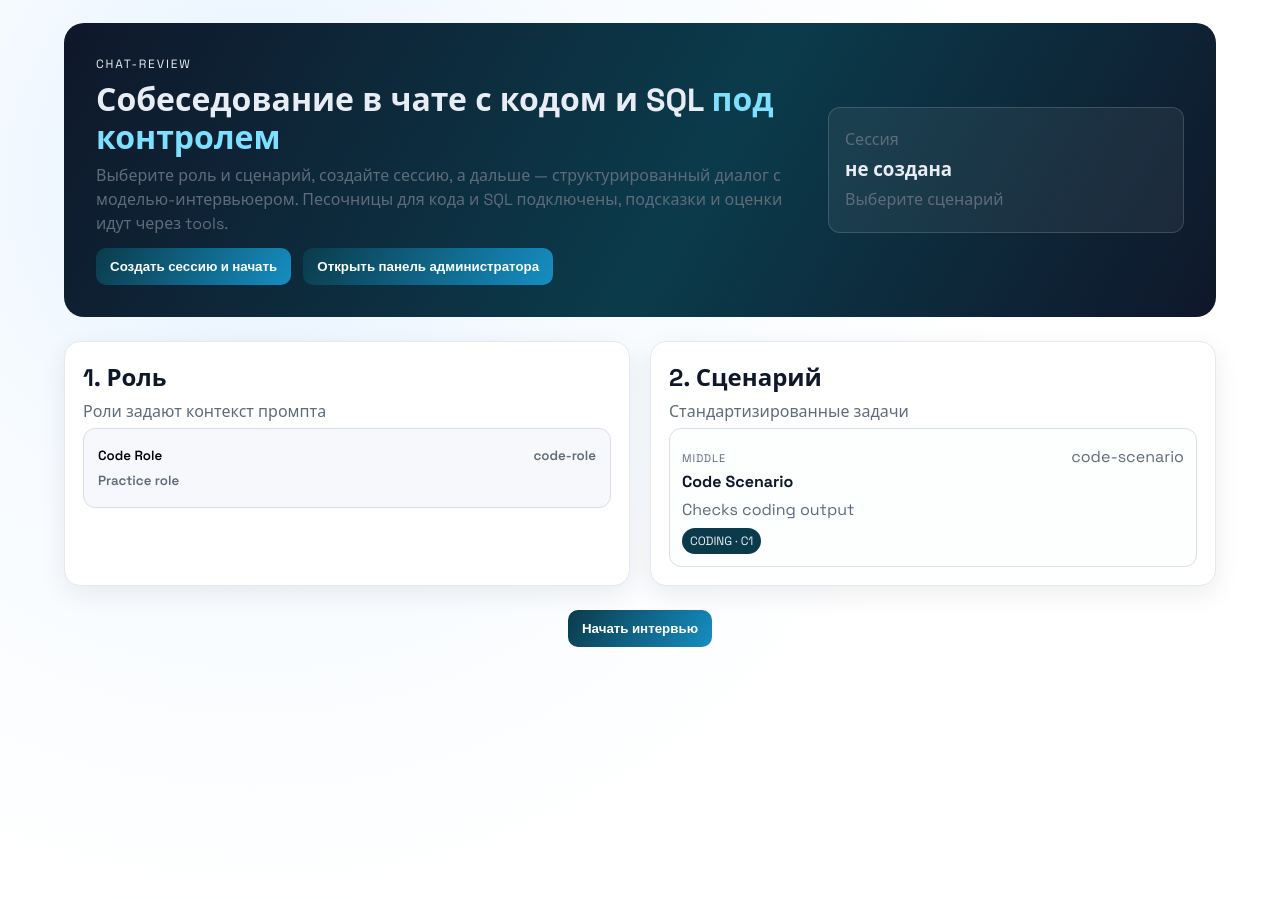
Test: Practice feedback UI › prefers model final reply for coding review and keeps score_task comment as fallback only
The image size is (1280, 899).
Click the text "Code Role". click: click(130, 455)
box: [98,447,162,464]
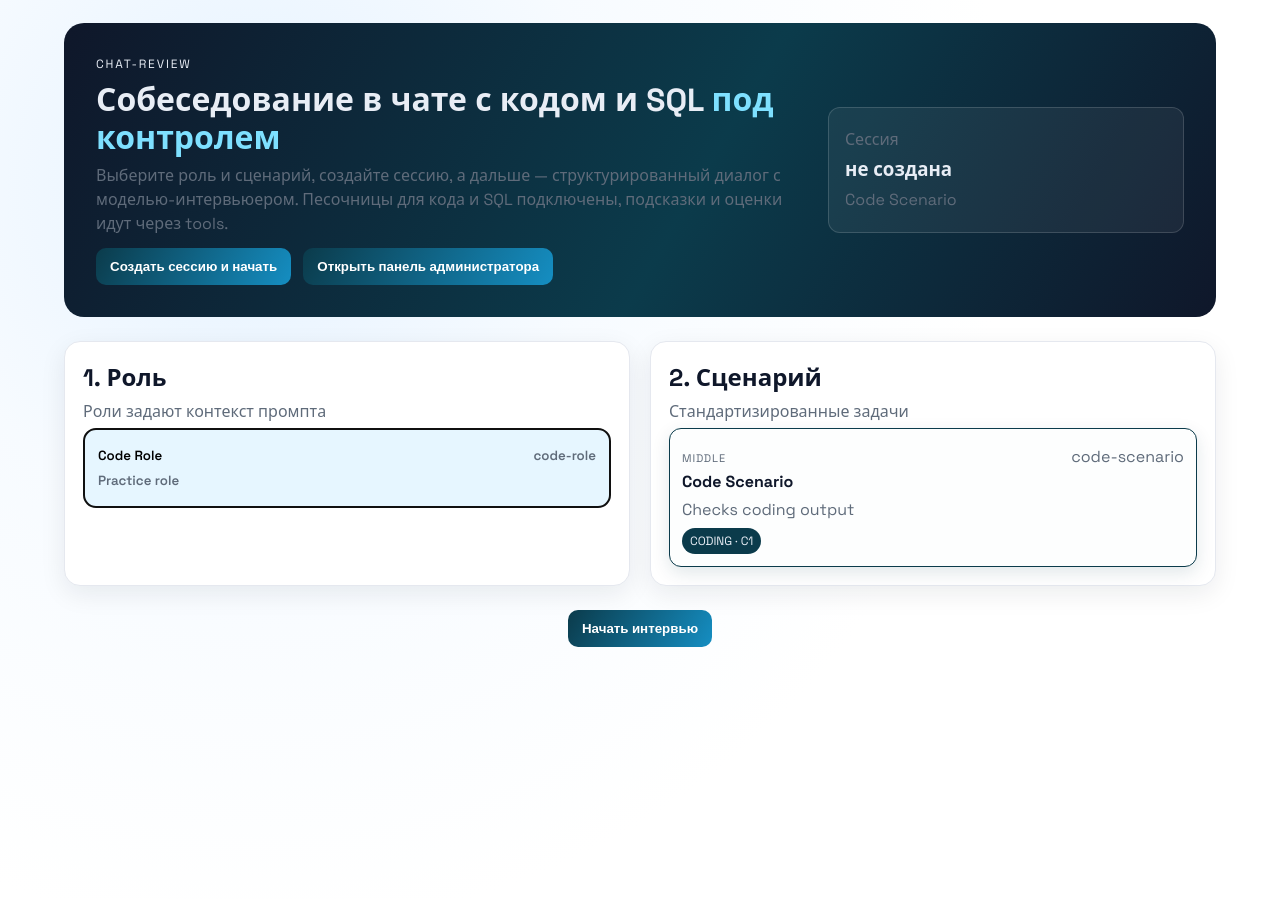
Click the text "Checks coding output". click: click(768, 510)
box: [682,499,854,520]
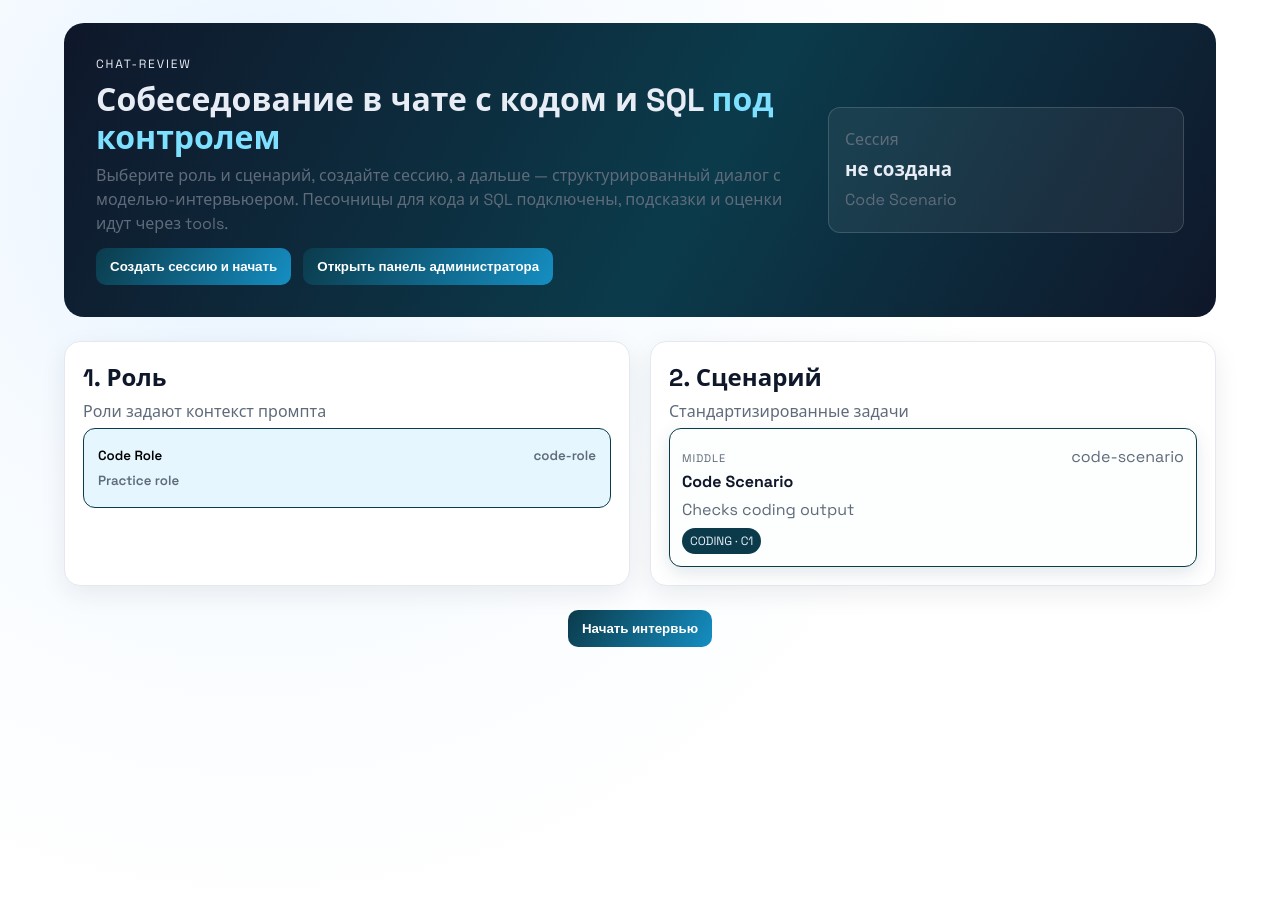
Click the button with test id "start-session-button". click: click(194, 266)
box: [96,248,291,285]
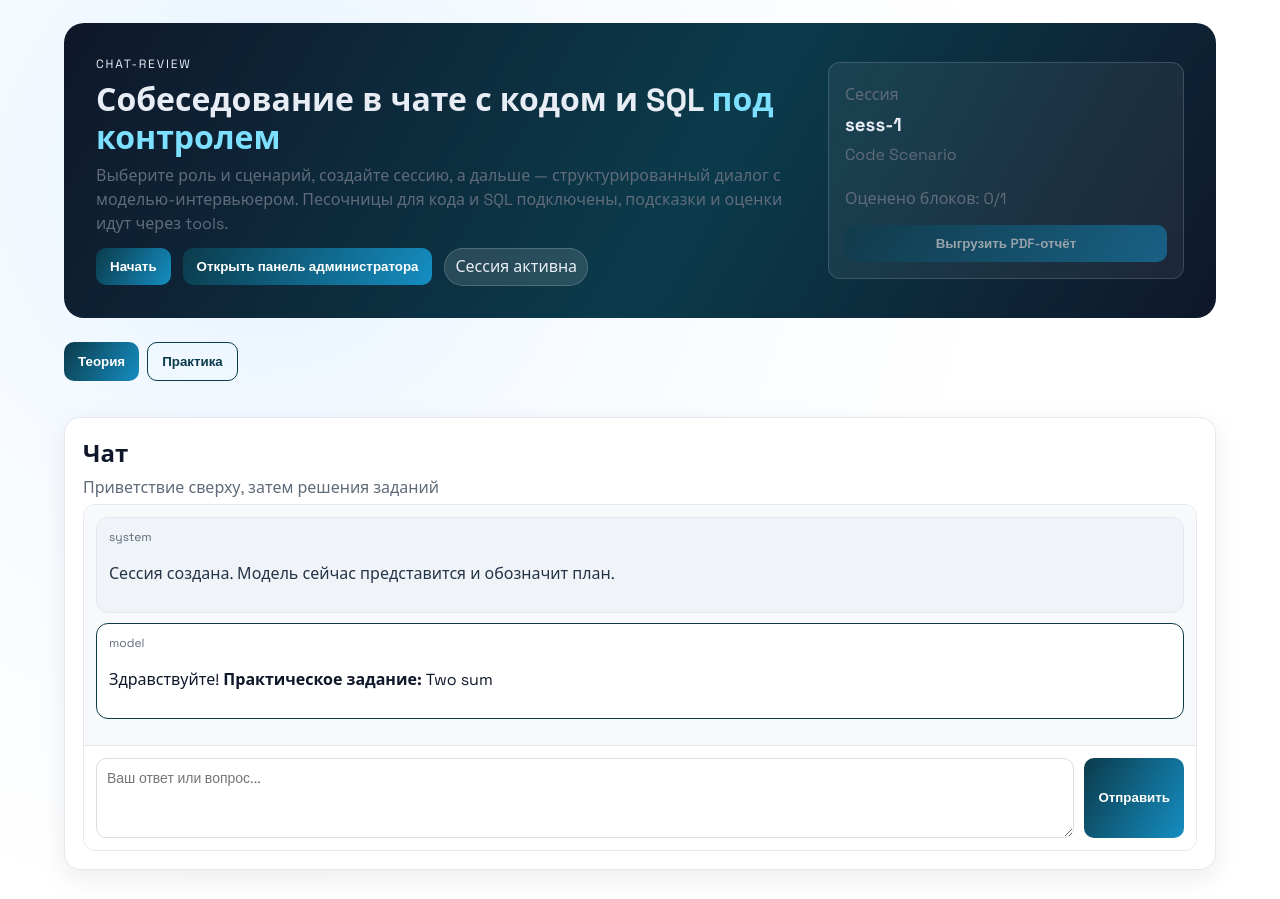
Click the button with test id "practice-mode-toggle". click: click(192, 361)
box: [147,342,238,381]
(page scrolled)
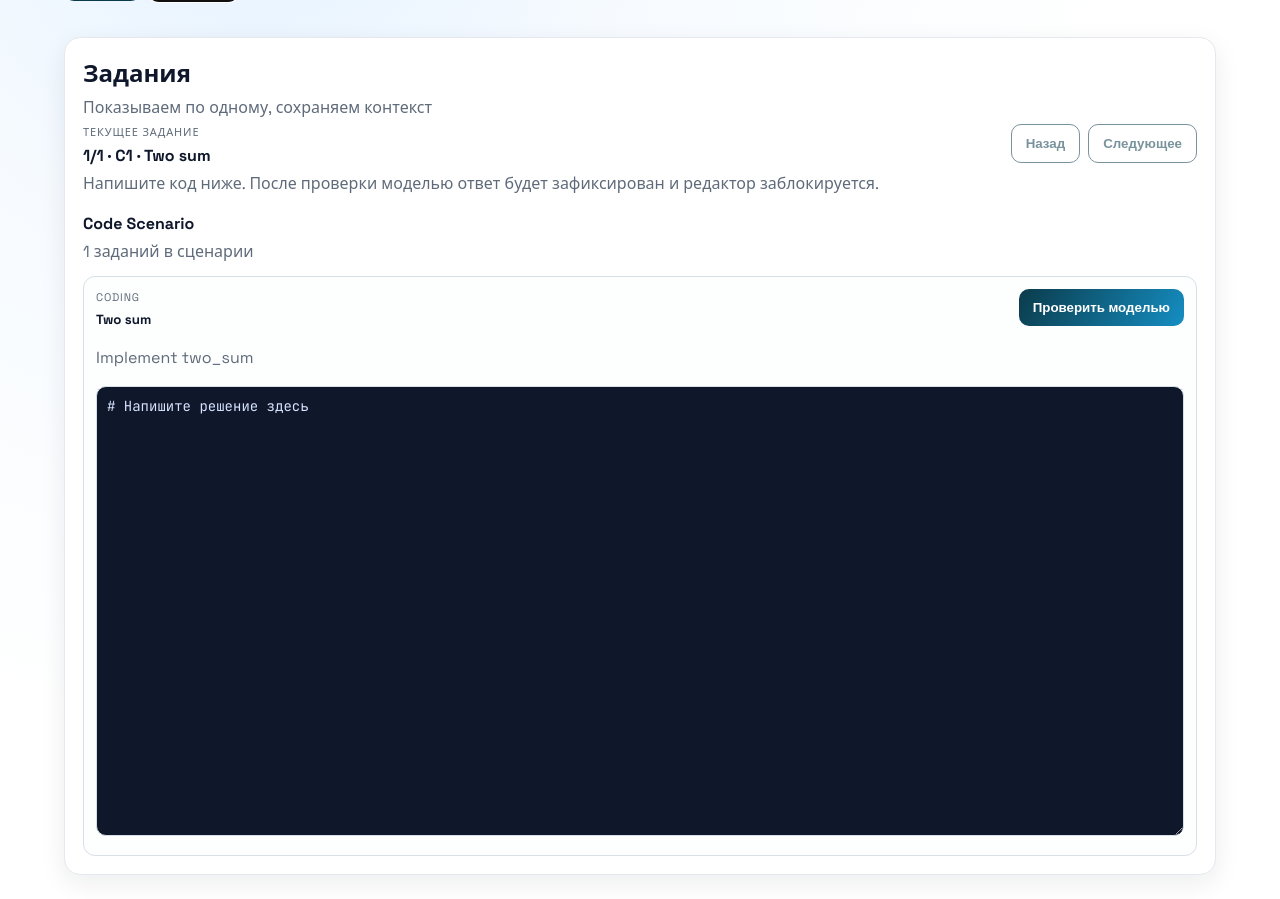
Replace the text in the text box with test id "coding-draft-input" with "def two_sum(nums, target): return [0, 1]". click: (640, 611)
box: [96,386,1184,836]
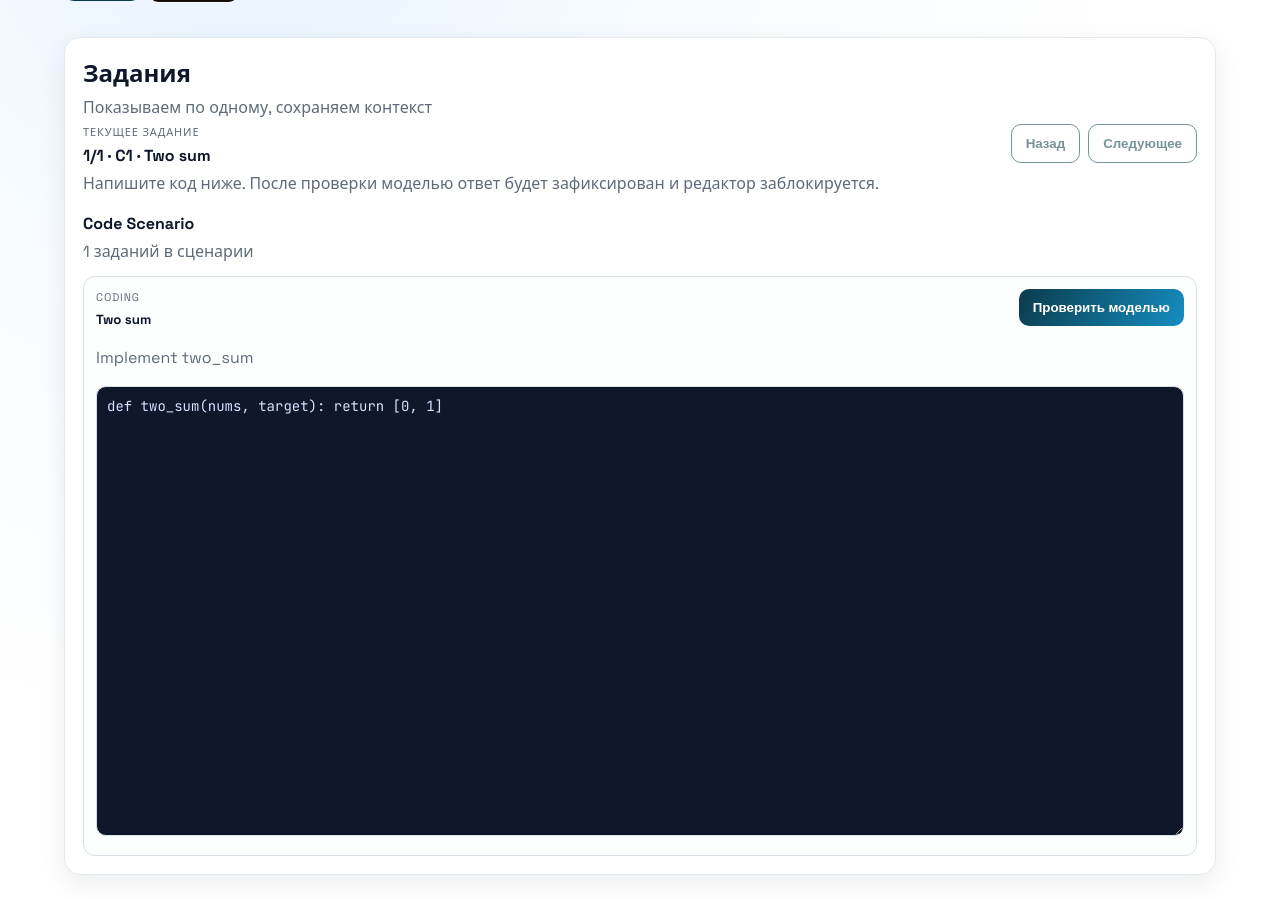
Click the button with test id "review-code-button". click: click(1101, 308)
box: [1019,289,1184,326]
(page scrolled)
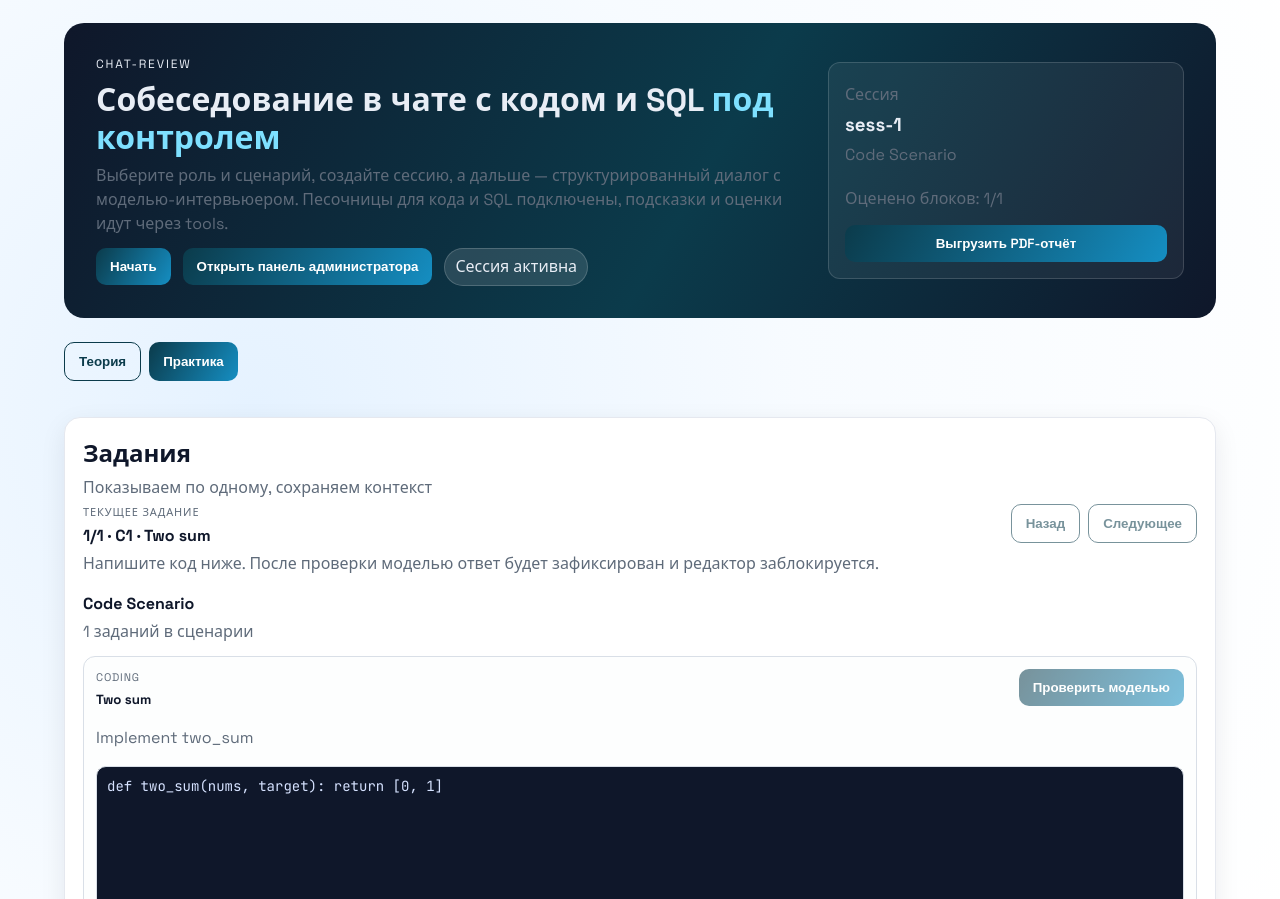
Now the text with test id "scored-blocks-counter" reads "Оценено блоков: 1/1", box [845,188,1003,209]
Now the button with test id "export-report-button" is enabled, box [845,225,1167,262]
